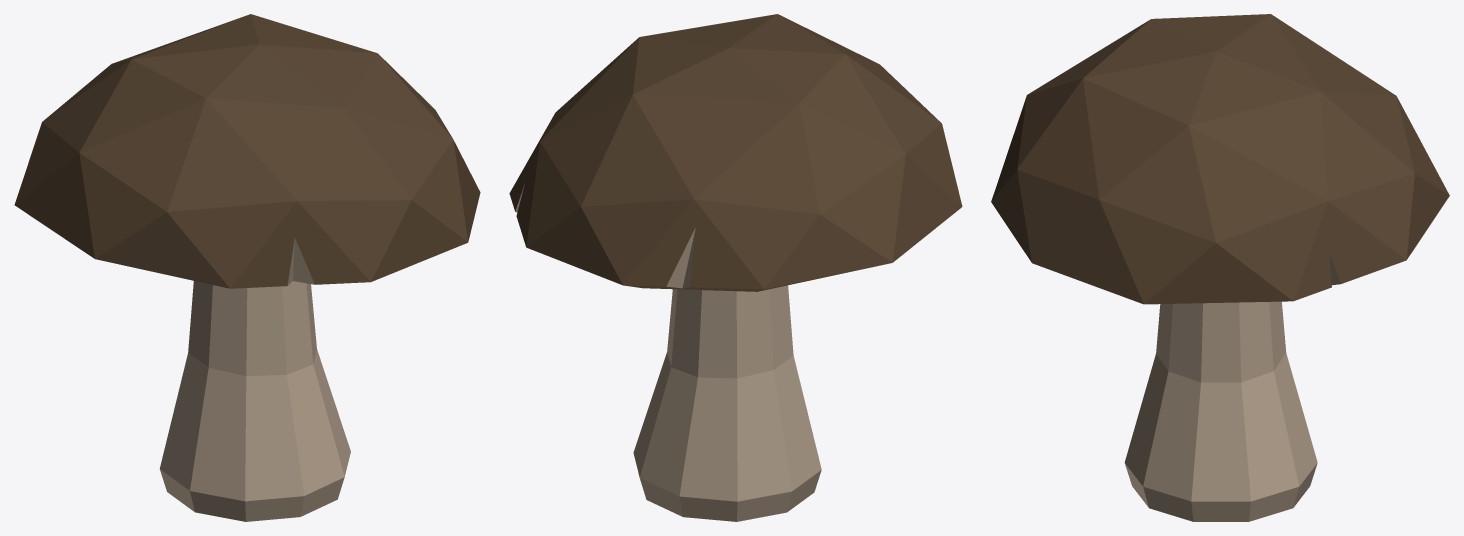
The model's file is mushroom.fbx.
The picture shows the model from 3 angles, left to right: view 1: azimuth 30°, elevation 25°; view 2: azimuth 150°, elevation 25°; view 3: azimuth 270°, elevation 25°; orthographic projection.
Visible parts, largest first — view 1: Icosphere.002; view 2: Icosphere.002; view 3: Icosphere.002.
Boxes of the visible parts, bbox=[...] form: Icosphere.002: bbox=[14, 14, 480, 521]; Icosphere.002: bbox=[509, 14, 962, 521]; Icosphere.002: bbox=[991, 14, 1449, 521].
Bounding box in the file's own units: 14.56 × 15.71 × 15.01.
